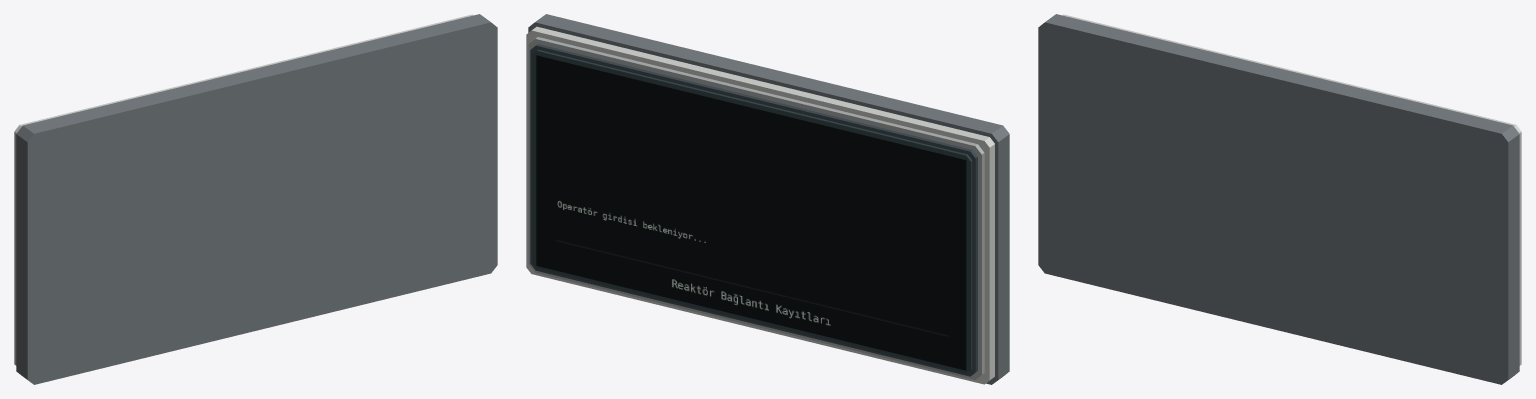
The model's file is REAKTOR_BAGLANTI_KAYIT_EKRANI_15_ADAY.glb.
3 renders of one model, left to right at view 1: azimuth 30°, elevation 25°; view 2: azimuth 150°, elevation 25°; view 3: azimuth 330°, elevation 25°, orthographic.
Parts seen in each view (by area): view 1: Monitor_rear_mount, Monitor_light_metal_body; view 2: DYNAMIC_LOG_DISPLAY, Monitor_rear_mount, Monitor_light_metal_body, Monitor_outer_bezel, Monitor_recessed_glass, Monitor_black_glass_rim; view 3: Monitor_rear_mount, Monitor_light_metal_body.
Boxes of the visible parts, bbox=[...] form: Monitor_rear_mount: bbox=[16, 14, 497, 384]; Monitor_light_metal_body: bbox=[14, 14, 473, 365]; DYNAMIC_LOG_DISPLAY: bbox=[536, 55, 966, 370]; Monitor_rear_mount: bbox=[528, 14, 1009, 384]; Monitor_light_metal_body: bbox=[526, 26, 994, 384]; Monitor_outer_bezel: bbox=[528, 37, 984, 379]; Monitor_recessed_glass: bbox=[532, 49, 972, 373]; Monitor_black_glass_rim: bbox=[530, 44, 977, 376]; Monitor_rear_mount: bbox=[1038, 14, 1519, 384]; Monitor_light_metal_body: bbox=[1062, 14, 1521, 365].
Size of the model in its own units: 7.15 by 3.65 by 0.613.
Materials: 6 (1 with a texture image).
